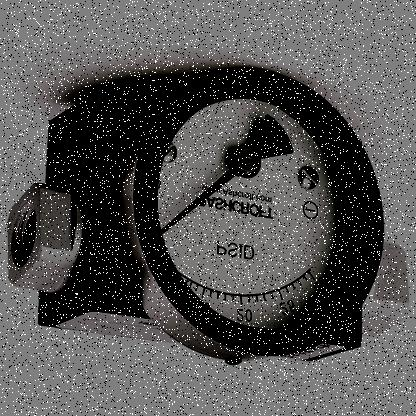needle: (159, 168, 238, 235)
